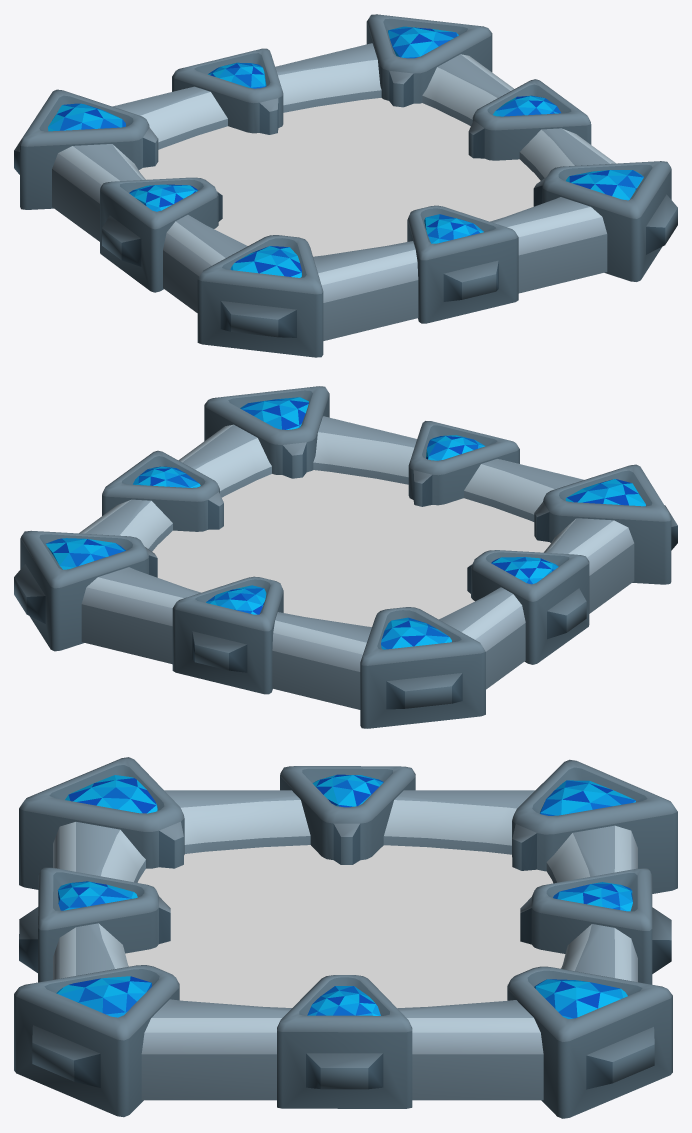
File: Portal.fbx
3 renders of one model, top to bottom at view 1: azimuth 30°, elevation 25°; view 2: azimuth 150°, elevation 25°; view 3: azimuth 270°, elevation 25°, orthographic. The views are drawn at different scales.
Parts seen in each view (by area): view 1: Plane; view 2: Plane; view 3: Plane.
Boxes of the visible parts, x1,y1,x2,y2 form: Plane: (14,14,677,357); Plane: (14,386,677,728); Plane: (14,757,677,1118).
Size of the model in its own units: 99.17 by 15.11 by 99.35.
Materials: 2 (1 with a texture image).
